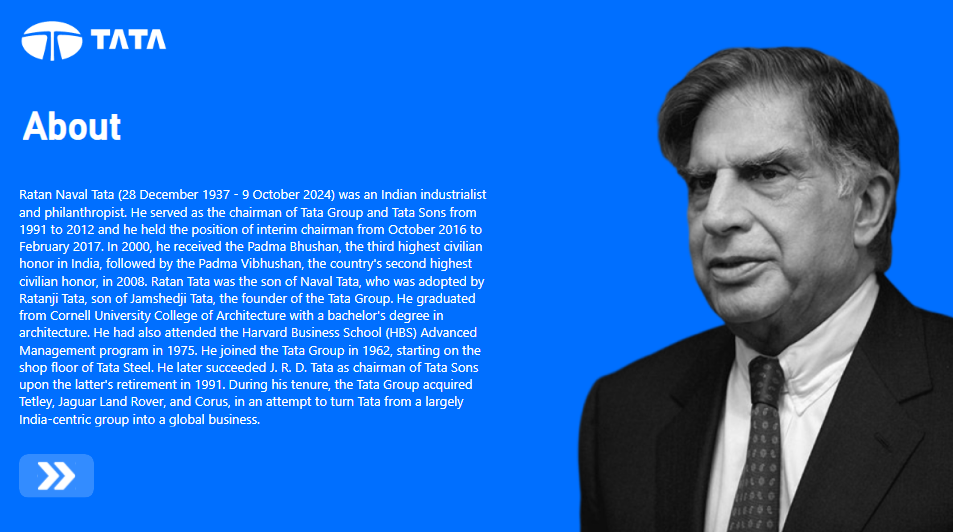

This screenshot's page, from the dashboard's own definition file:
{"tool":"powerbi","page":{"name":"About","canvas":[1280,720],"ordinal":2},"visuals":[{"type":"shape","box":[30.6,212.7,633.8,393.4],"z":0},{"type":"textbox","title":"About","box":[30.6,140.4,176.5,62.5],"z":1000},{"type":"actionButton","box":[30.6,606,100.1,58.4],"z":2000}]}

Visuals, with their boxes in screenshot pixels (x1, y1, x2, y2), scaled from the page's 1280x720 canvas onto the 953x532 screenshot:
shape: <box>23,157,495,448</box>
"About" textbox: <box>23,104,154,150</box>
actionButton: <box>23,448,97,491</box>
